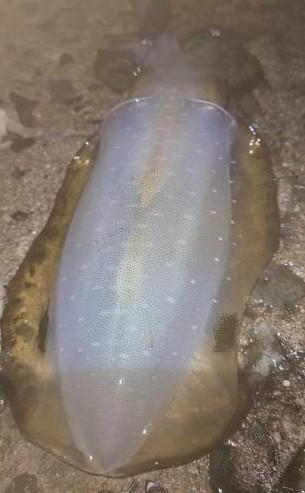Cephalopod: (0, 0, 280, 480)
